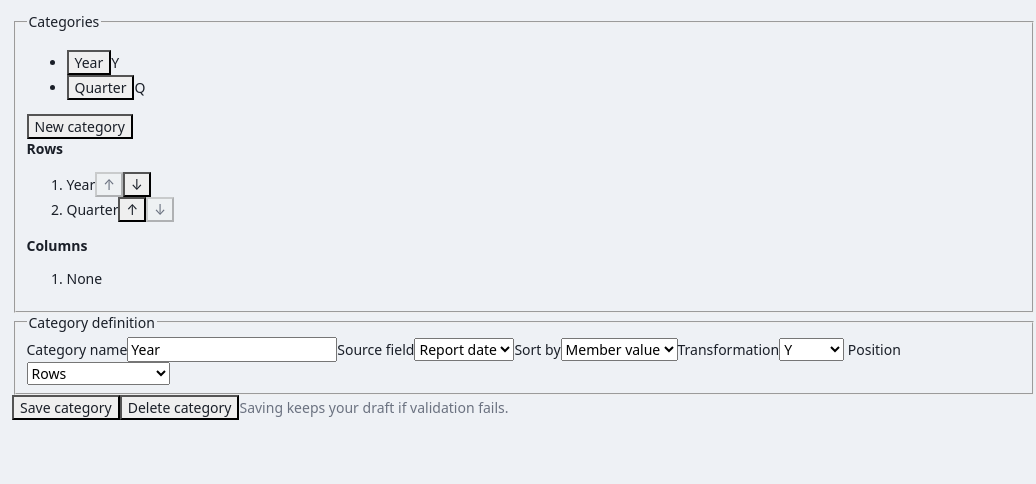
Test: deletion failure preserves selection and edited definition
Replace the text in the field labelled "Category name" with "Retained" at (232, 349), box [127, 336, 337, 362]
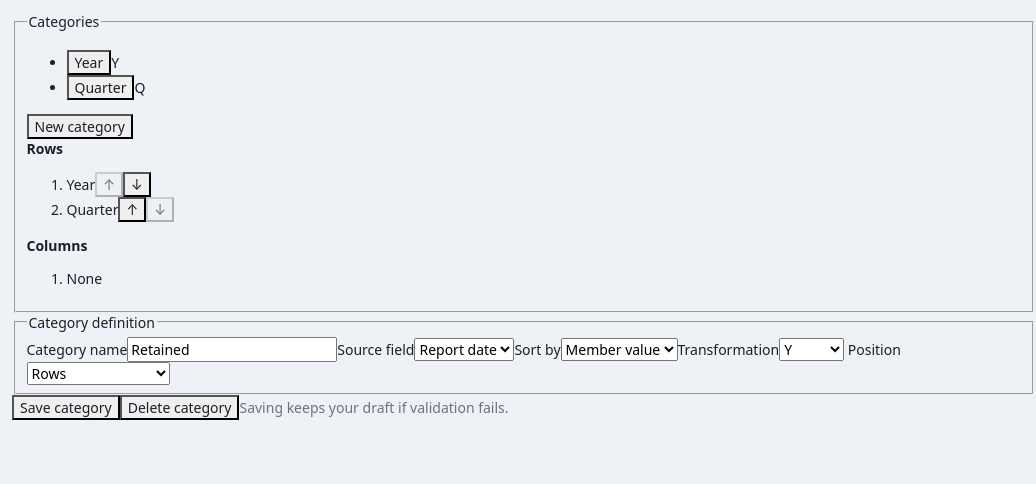
Click the button "Delete category".
click(180, 408)  # box [120, 395, 240, 420]
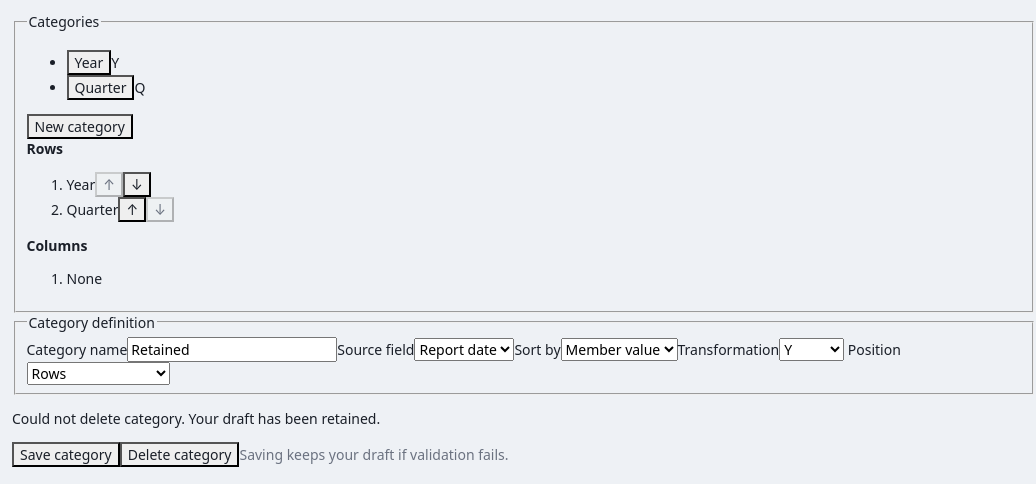
Expected: the message shows "Could not delete category", [12, 409, 380, 428]
